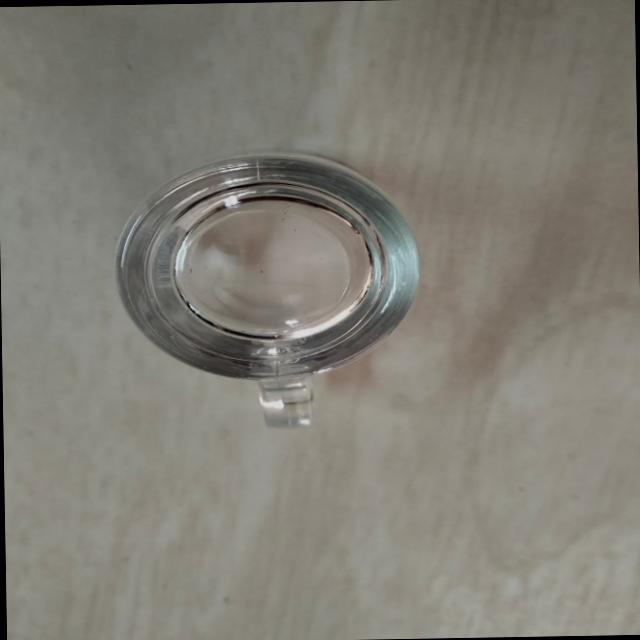glass-VX4N: (108, 144, 423, 434)
